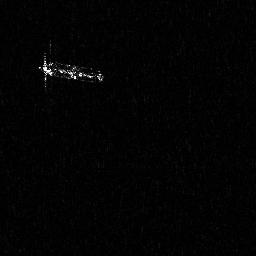ship: (37, 54, 106, 89)
